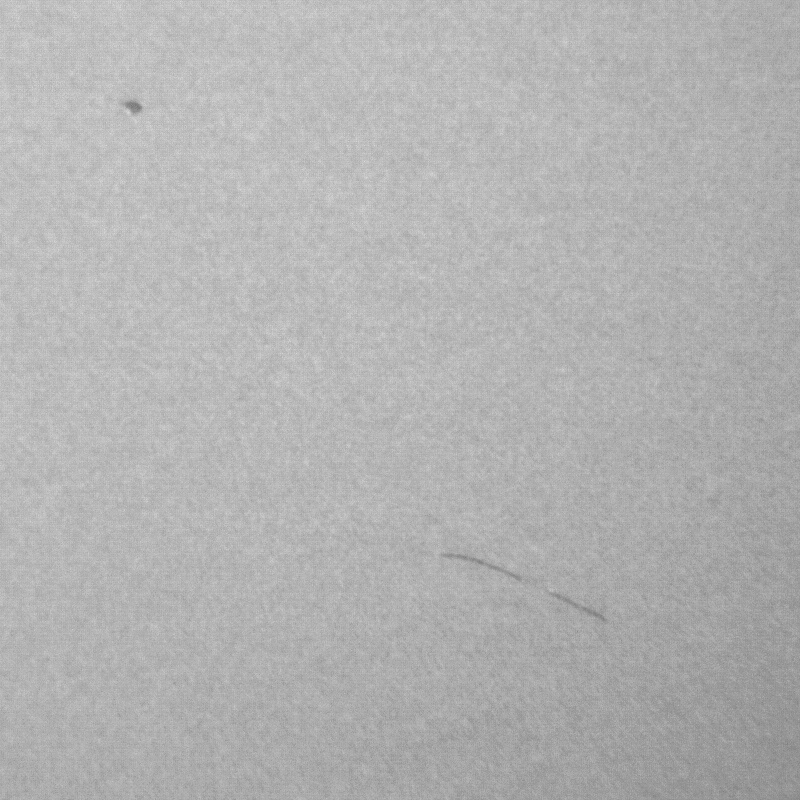defect: (448, 558, 615, 623), (126, 102, 146, 118)
